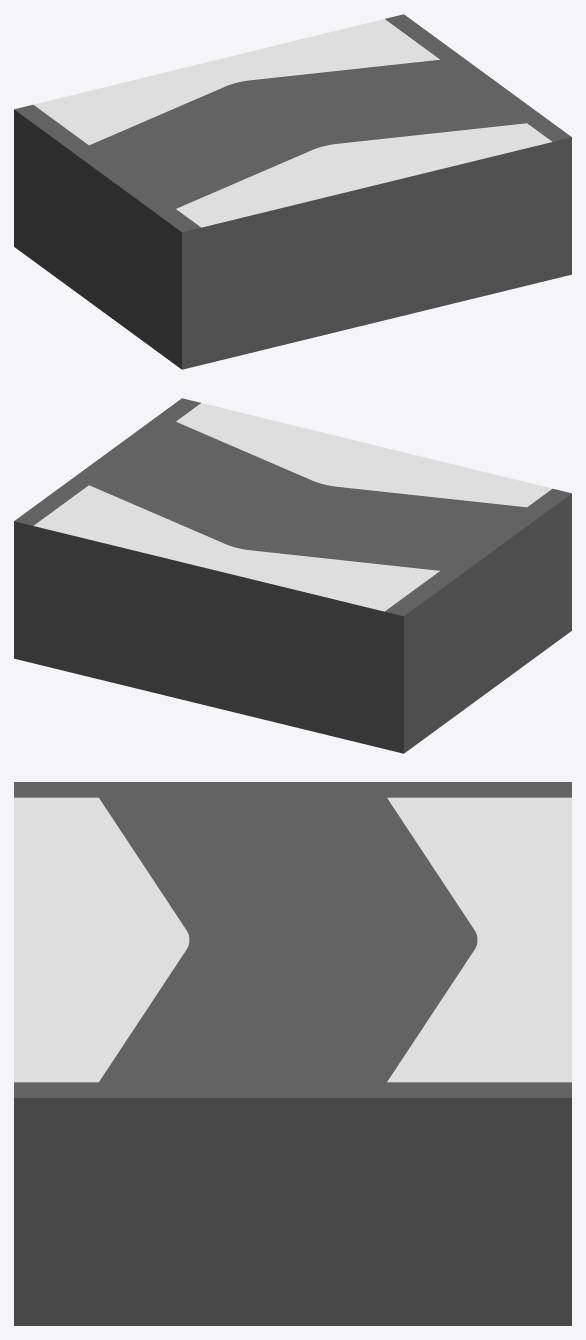
File: straight_platformfv.fbx
3 views of the same model, one above another, from view 1: azimuth 30°, elevation 25°; view 2: azimuth 150°, elevation 25°; view 3: azimuth 270°, elevation 25° (orthographic). The views are drawn at different scales.
Parts seen in each view (by area): view 1: Straight Platform; view 2: Straight Platform; view 3: Straight Platform.
Boxes of the visible parts, box(x1,y1,x2,y2) form: Straight Platform: box(14, 14, 571, 369); Straight Platform: box(14, 398, 571, 753); Straight Platform: box(14, 782, 571, 1325).
Size of the model in its own units: 148 by 49.82 by 110.
